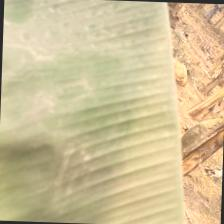healthy: (0, 0, 191, 224)
